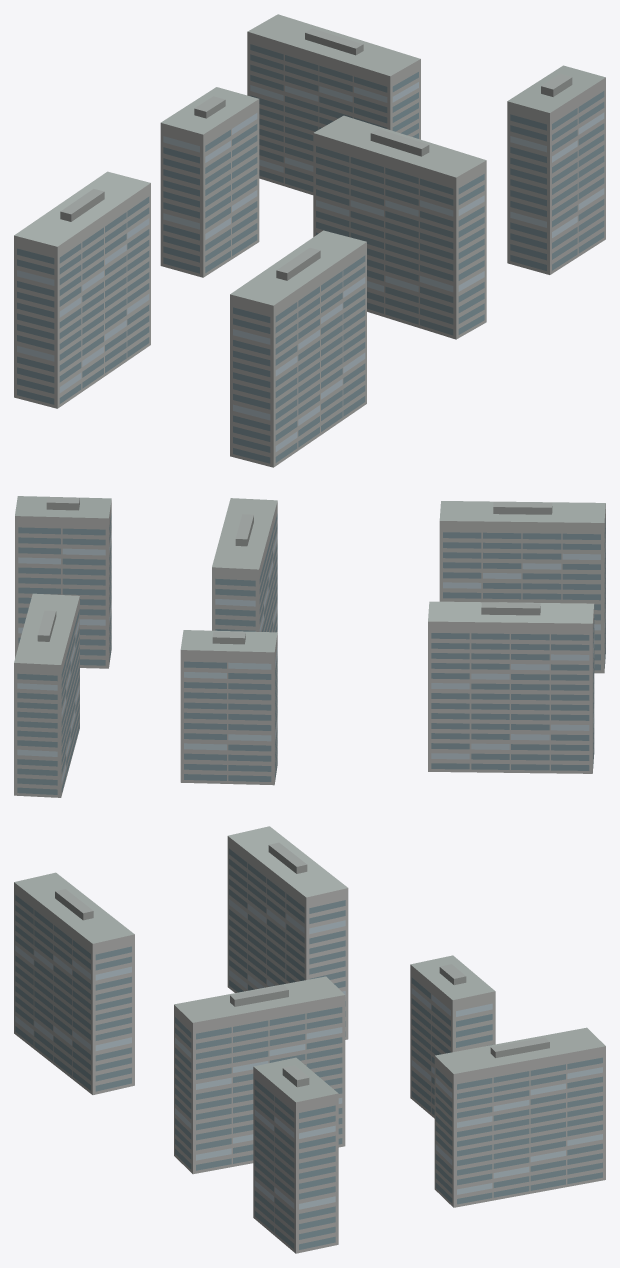
The model's file is apt-a15883202.glb.
The picture shows the model from 3 angles, top to bottom: view 1: azimuth 30°, elevation 25°; view 2: azimuth 150°, elevation 25°; view 3: azimuth 270°, elevation 25°; orthographic projection. The views are drawn at different scales.
Parts seen in each view (by area): view 1: apt-a15883202; view 2: apt-a15883202; view 3: apt-a15883202.
Part boxes in pixels (x1,y1,x2,y2): apt-a15883202: (14,14,605,467); apt-a15883202: (14,496,605,797); apt-a15883202: (14,826,605,1253).
Bounding box in the file's own units: 161 × 43 × 146.
